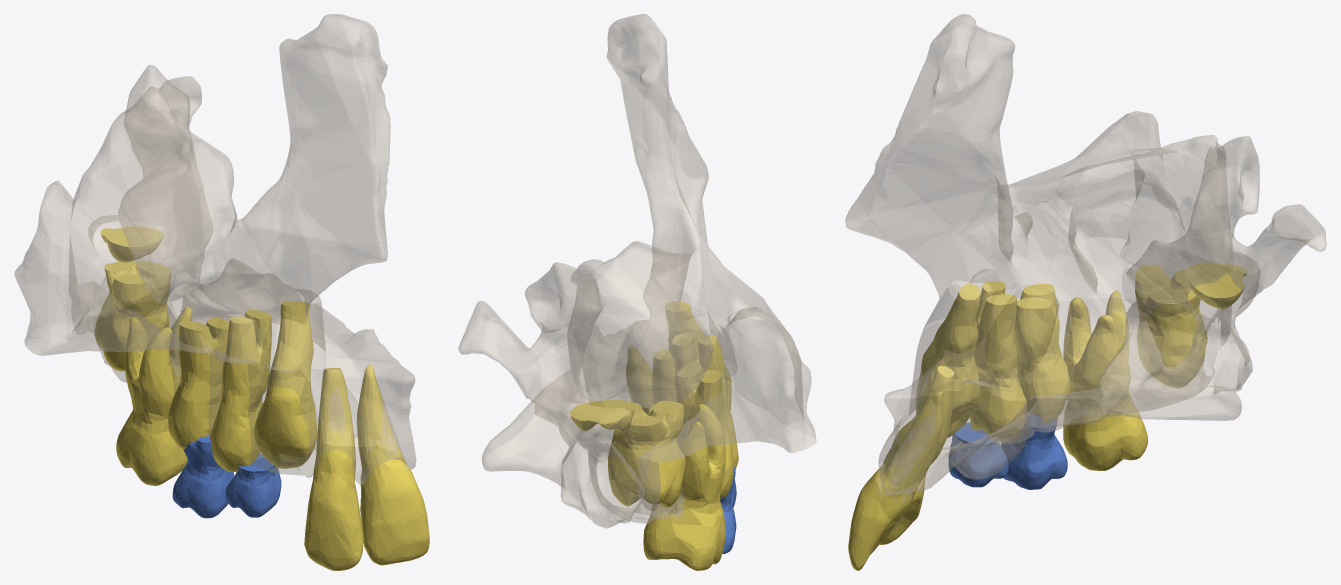
The model's file is ortho-after.glb.
The picture shows the model from 3 angles, left to right: view 1: azimuth 30°, elevation 25°; view 2: azimuth 150°, elevation 25°; view 3: azimuth 270°, elevation 25°; orthographic projection. The views are drawn at different scales.
Visible parts, largest first — view 1: bone, teeth, canine, baby-teeth; view 2: bone, teeth, canine, baby-teeth; view 3: bone, teeth, baby-teeth, canine.
Part boxes in pixels (x1=…): bone: x1=14, y1=14, x2=416, y2=484; teeth: x1=94, y1=226, x2=429, y2=570; canine: x1=254, y1=301, x2=317, y2=468; baby-teeth: x1=172, y1=435, x2=281, y2=518; bone: x1=458, y1=14, x2=816, y2=528; teeth: x1=570, y1=333, x2=738, y2=570; canine: x1=665, y1=301, x2=731, y2=410; baby-teeth: x1=720, y1=466, x2=736, y2=553; bone: x1=845, y1=14, x2=1326, y2=503; teeth: x1=848, y1=262, x2=1247, y2=570; baby-teeth: x1=948, y1=413, x2=1067, y2=489; canine: x1=916, y1=283, x2=980, y2=437.
Bounding box in the file's own units: 0.0451 × 0.0795 × 0.0637.
